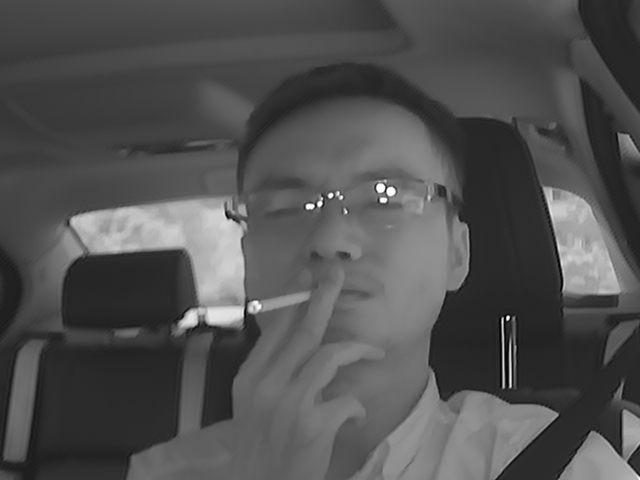hand: (242, 269, 374, 427)
